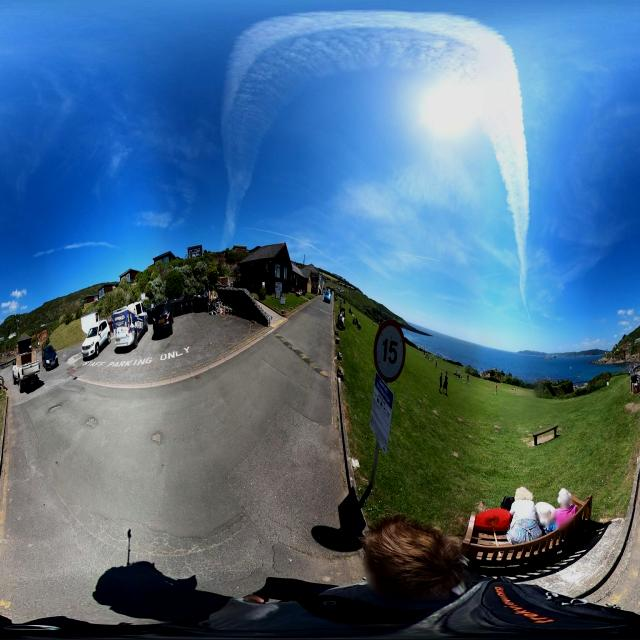car: (113, 310, 137, 352), (151, 300, 173, 339), (81, 327, 101, 362), (42, 344, 58, 370), (98, 318, 110, 346), (322, 288, 332, 303)
